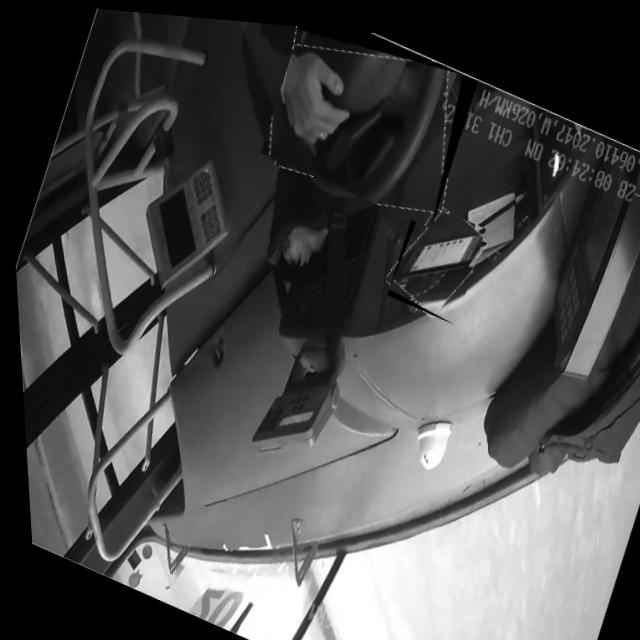phone: (379, 187, 488, 319)
wheel: (252, 18, 484, 223)
